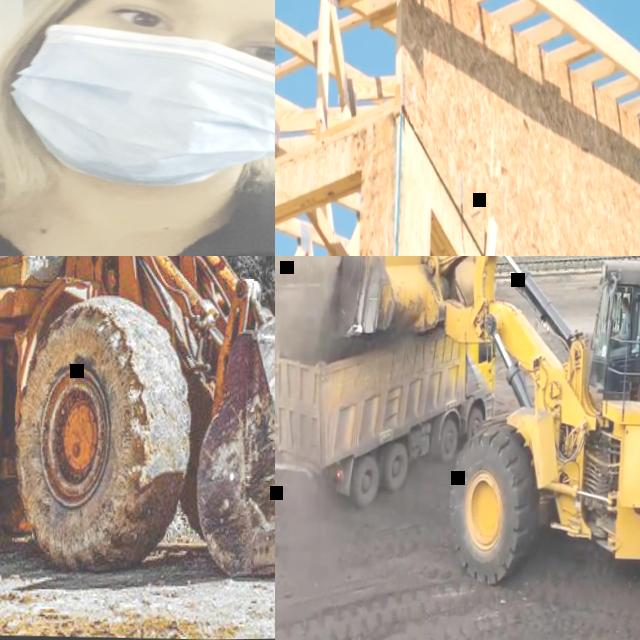Mask: (10, 22, 275, 191)
NO-Hardhat: (622, 296, 630, 307)
NO-Mask: (621, 308, 626, 315)
NO-Safety Vest: (0, 167, 275, 256), (620, 314, 630, 336)
Person: (0, 0, 275, 256), (611, 295, 632, 348)
vehicle: (312, 256, 640, 640), (0, 256, 275, 593), (275, 283, 499, 517), (603, 267, 640, 387)
